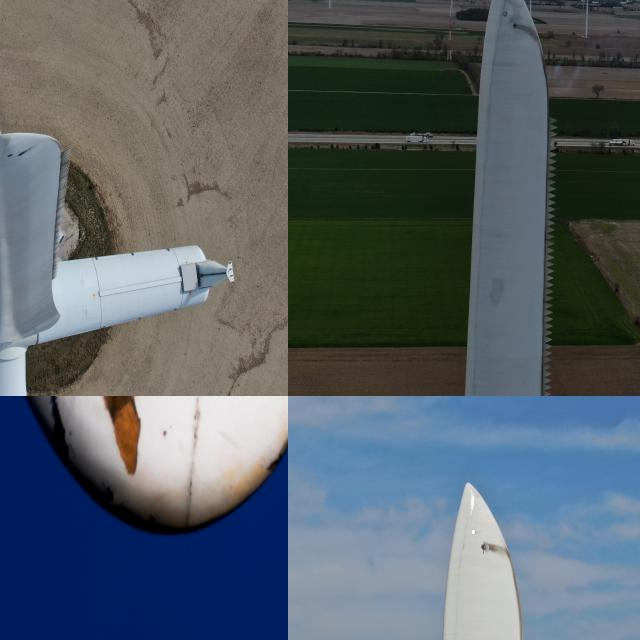damage: (2, 396, 184, 519), (15, 140, 42, 162), (480, 542, 490, 556), (512, 21, 518, 31)
